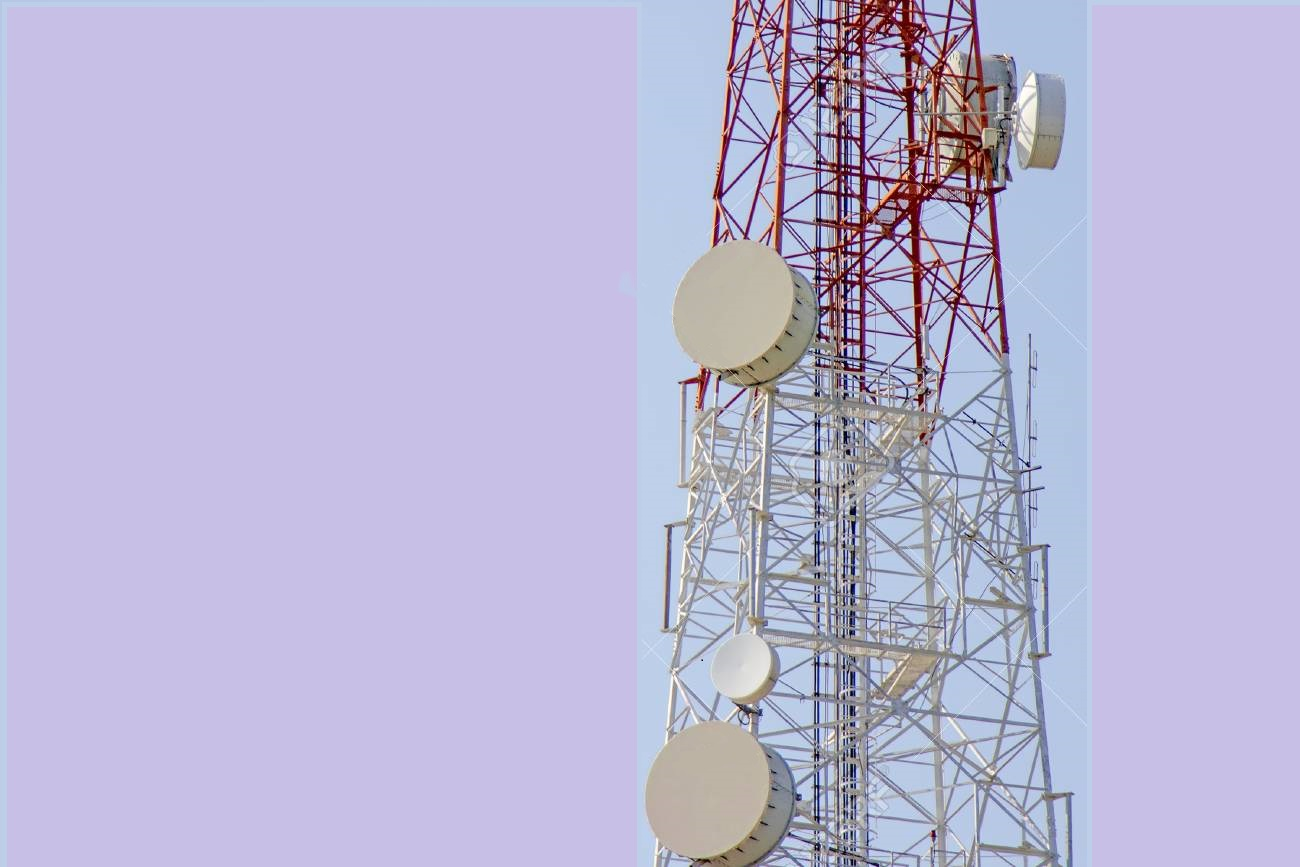b: (641, 713, 801, 867), (670, 238, 821, 389), (933, 48, 1021, 185), (702, 624, 784, 707), (1015, 64, 1073, 178)
